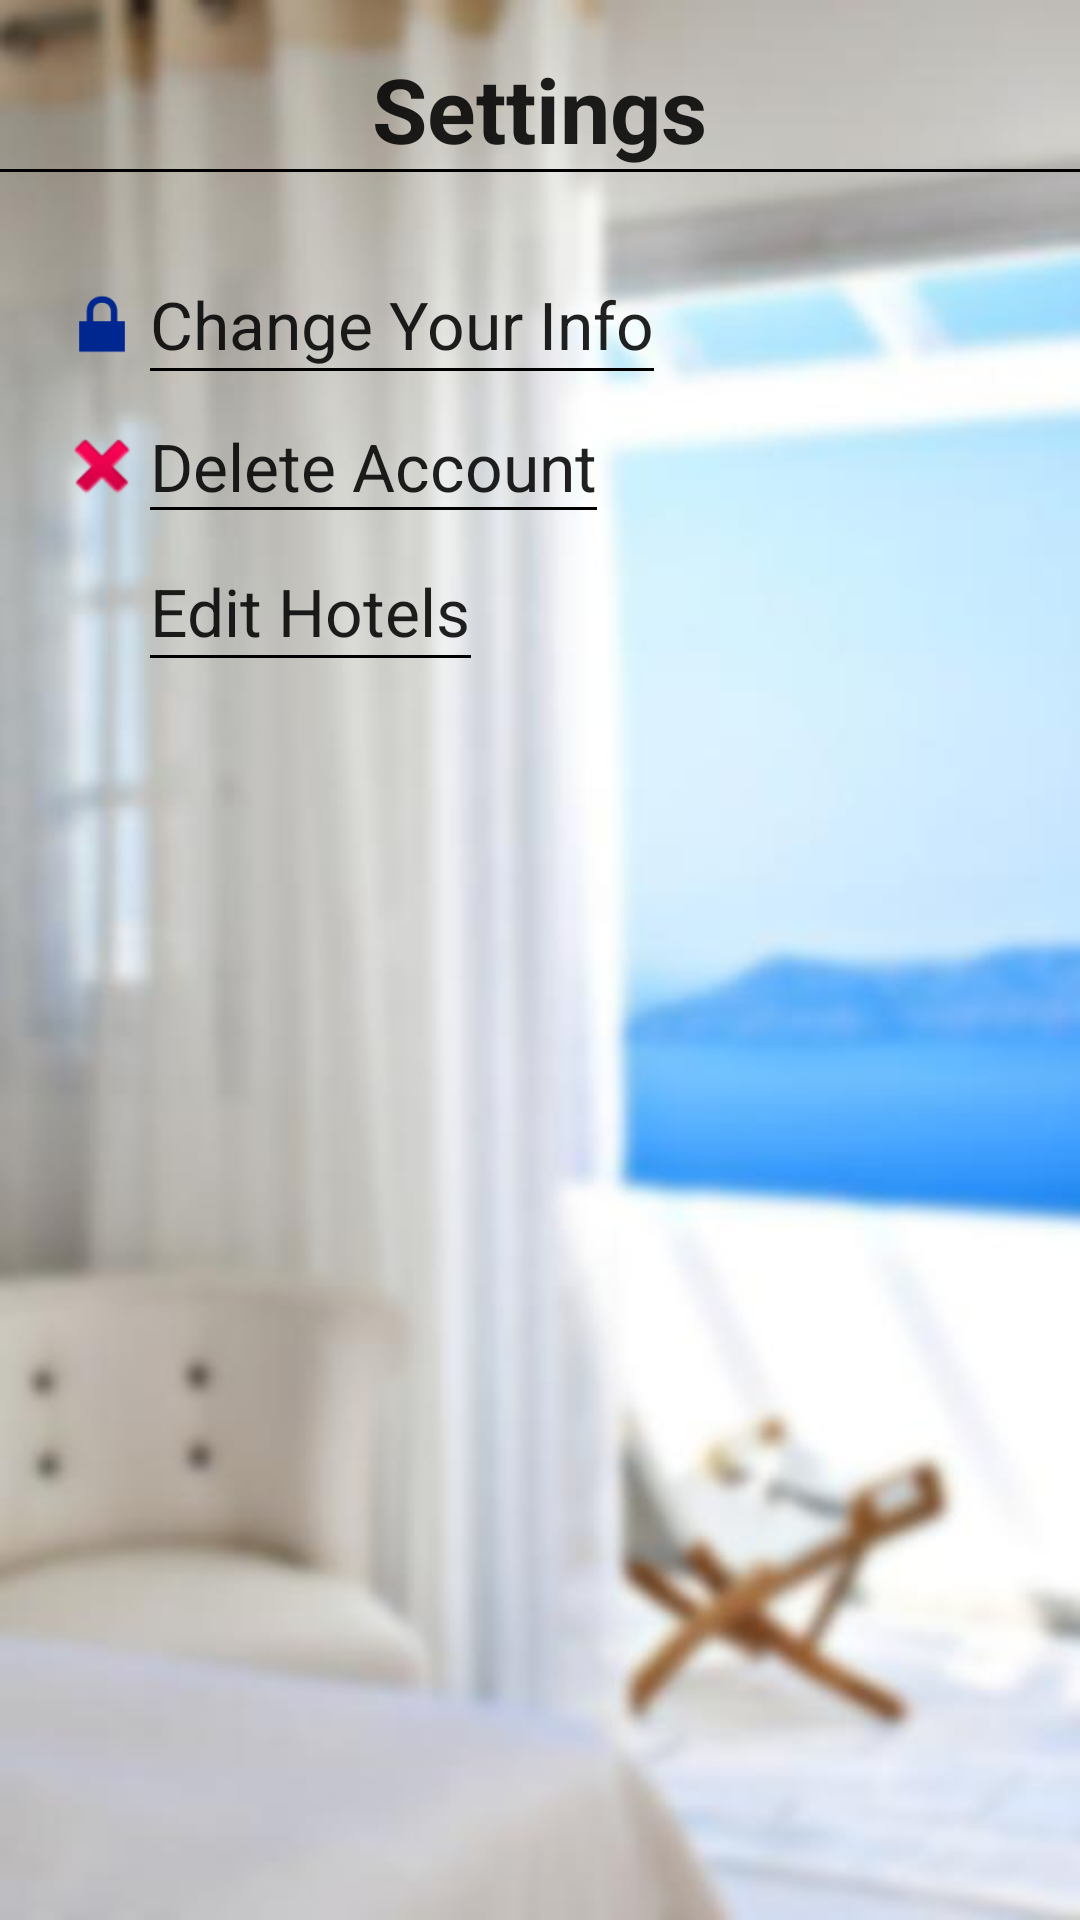

Named icons in this screenshot (1080px x 1920px) and their bounding boxes, (left=x1, top=y1, right=x2, bottom=y2):
lock: (left=54, top=280, right=125, bottom=353)
